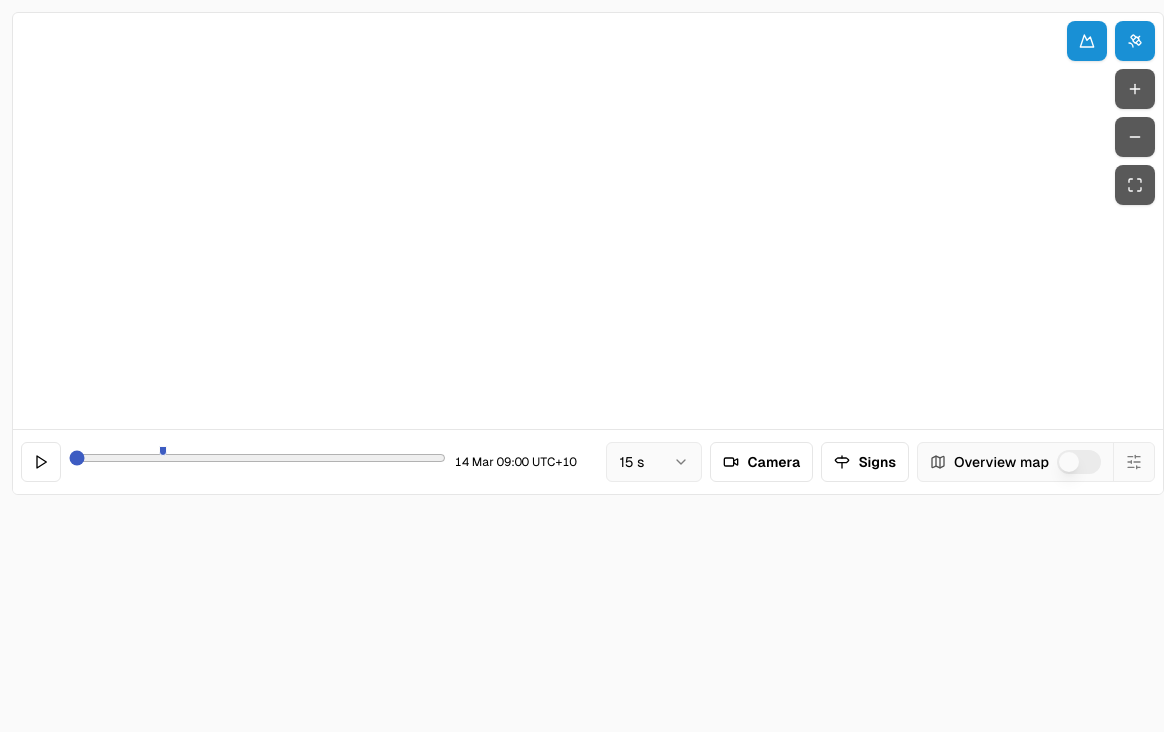
ReplayPanel camera shots › a mark seeks to its shot and opens the editor on it
The image size is (1164, 732).
Click the button named "Camera shot 1, Orbit, at": click(163, 451) [159,446,167,456]
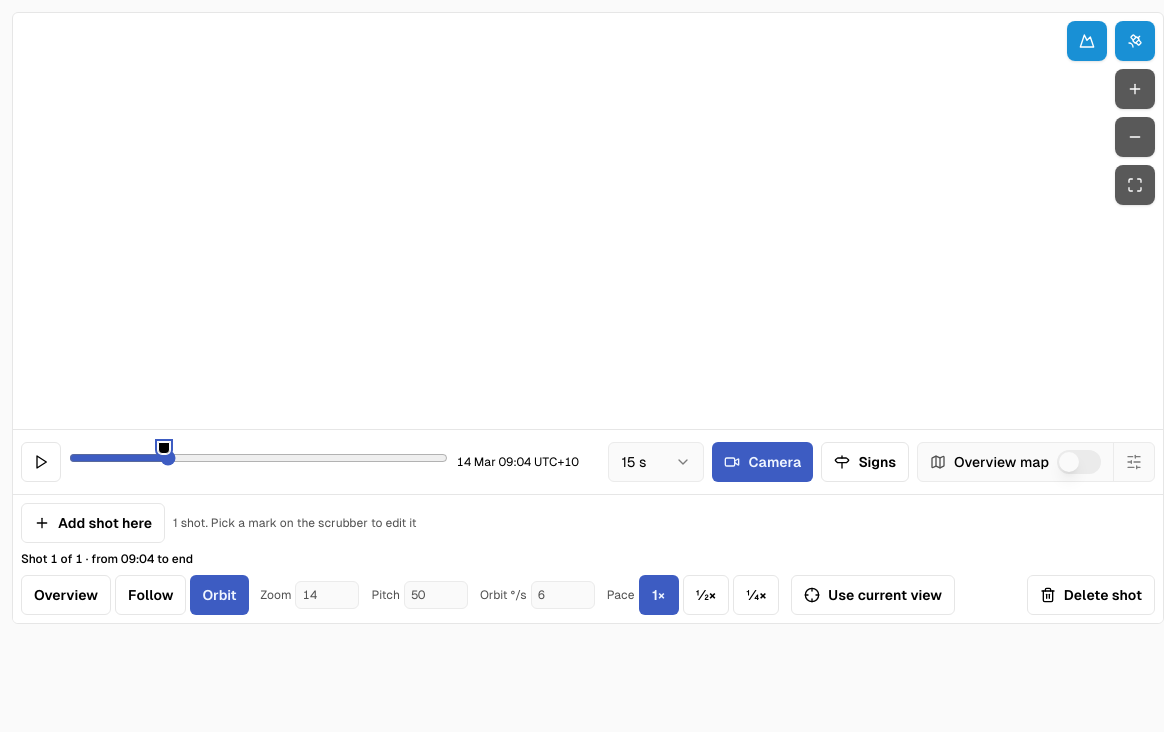
Now the slider named "Replay position" holds "250", box [69,450,448,466]
Now the number field labelled "Orbit °/s" holds "6", box [531,581,595,609]
